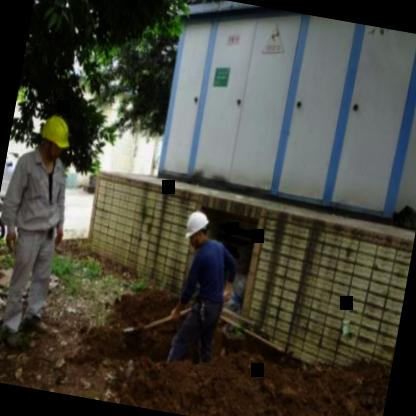helmet: (32, 108, 75, 170), (181, 207, 214, 250)
